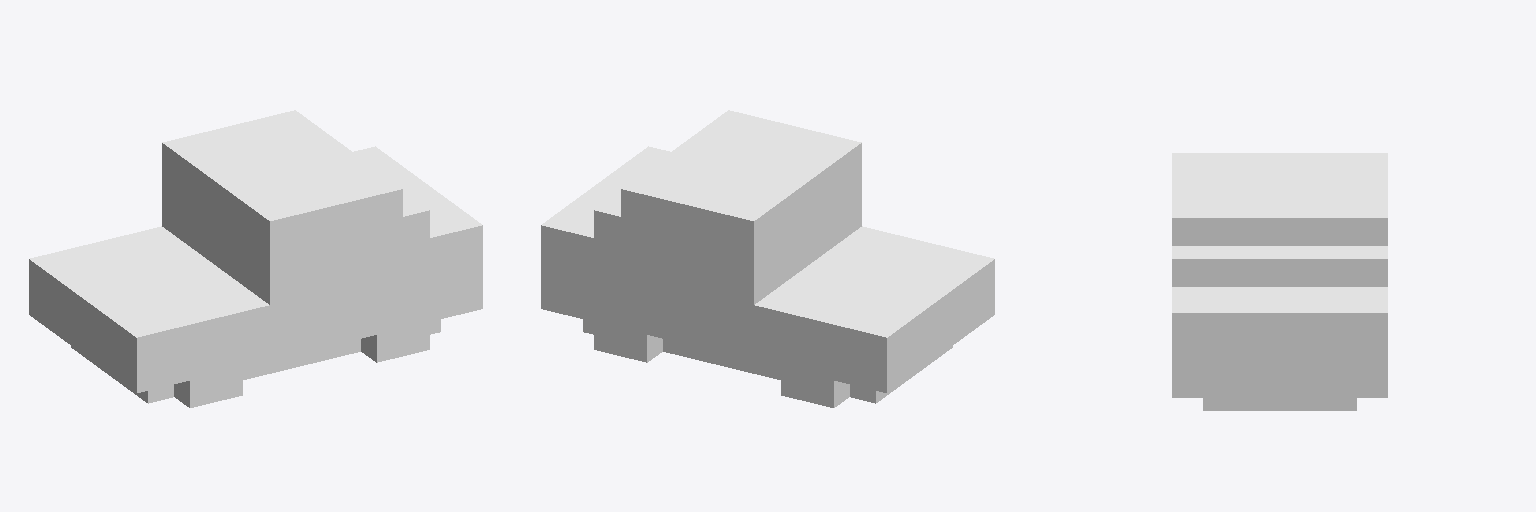
Rendered from cars.obj.
3 renders of one model, left to right at view 1: azimuth 30°, elevation 25°; view 2: azimuth 150°, elevation 25°; view 3: azimuth 270°, elevation 25°, orthographic.
Parts seen in each view (by area): view 1: object 1; view 2: object 1; view 3: object 1.
Boxes of the visible parts, <box> form: object 1: <box>29,110,482,407</box>; object 1: <box>541,110,994,407</box>; object 1: <box>1172,153,1387,410</box>.
Bounding box in the file's own units: 1.3 × 0.6 × 0.7.